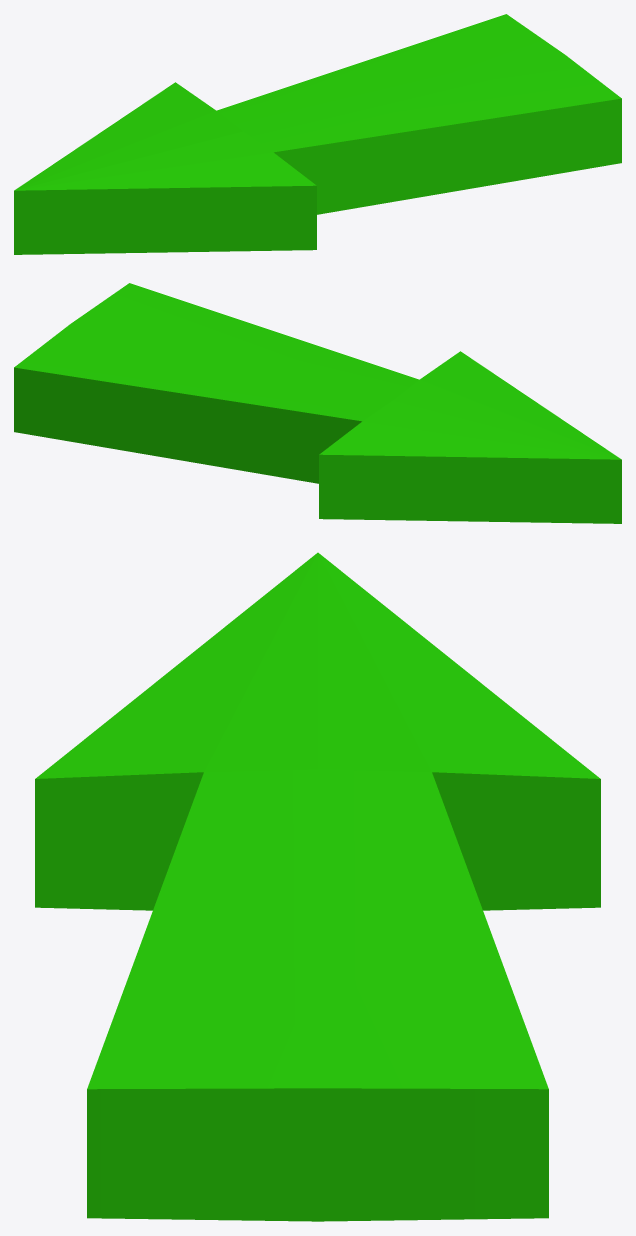
Rendered from Arrow.FBX.
The picture shows the model from 3 angles, top to bottom: view 1: azimuth 30°, elevation 25°; view 2: azimuth 150°, elevation 25°; view 3: azimuth 270°, elevation 25°; orthographic projection. The views are drawn at different scales.
Visible parts, largest first — view 1: Object001; view 2: Object001; view 3: Object001.
Part boxes in pixels (x1=…): Object001: x1=14, y1=14, x2=621, y2=254; Object001: x1=14, y1=283, x2=621, y2=523; Object001: x1=35, y1=552, x2=600, y2=1221.
Bounding box in the file's own units: 90.81 × 11.18 × 40.34.
